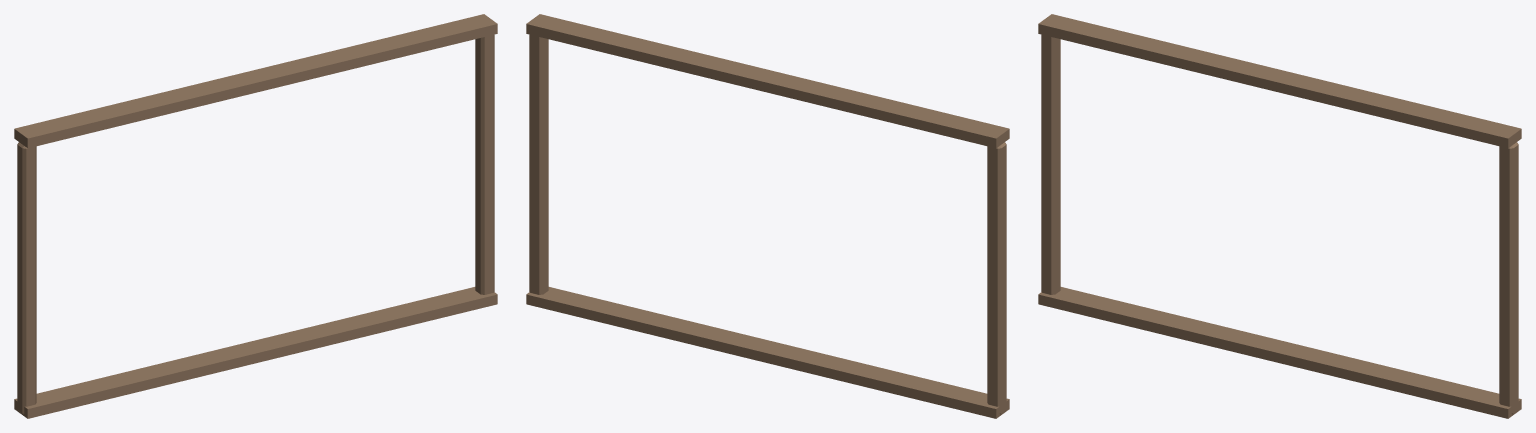
File: feudal-japan-castle-town-rain-shutter-track-7e6e8db1__26372.glb
The picture shows the model from 3 angles, left to right: view 1: azimuth 30°, elevation 25°; view 2: azimuth 150°, elevation 25°; view 3: azimuth 330°, elevation 25°; orthographic projection.
Parts seen in each view (by area): view 1: rain-shutter-track; view 2: rain-shutter-track; view 3: rain-shutter-track.
Boxes of the visible parts, box(x1,y1,x2,y2) form: rain-shutter-track: box(14, 14, 497, 418); rain-shutter-track: box(526, 14, 1009, 418); rain-shutter-track: box(1038, 14, 1521, 418).
Size of the model in its own units: 4.02 by 2.28 by 0.2002.
